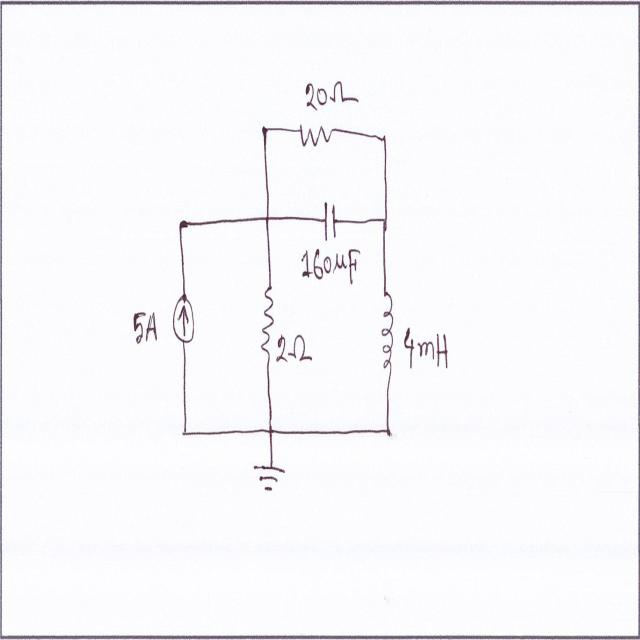capacitor: (322, 199, 338, 247)
current_source: (171, 291, 197, 347)
ground: (253, 462, 288, 495)
inductor: (379, 291, 396, 377)
resistor: (298, 114, 335, 154), (261, 282, 275, 359)
